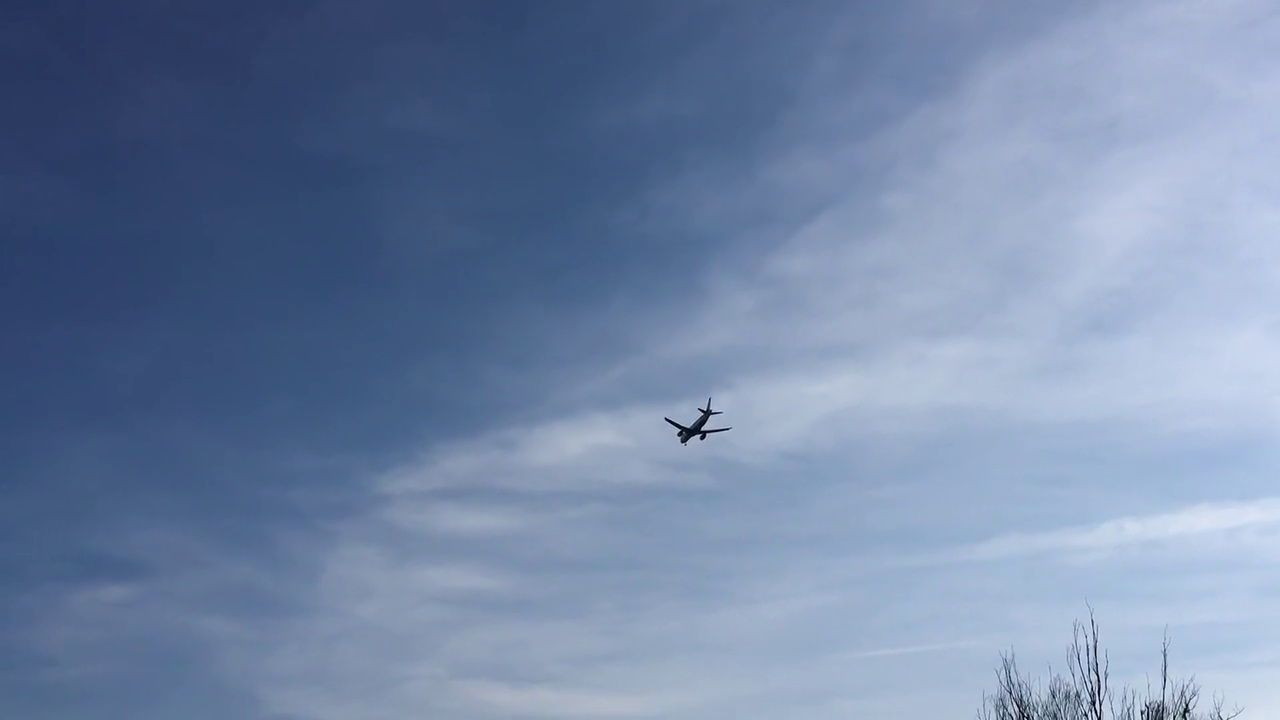plane: (664, 397, 732, 444)
